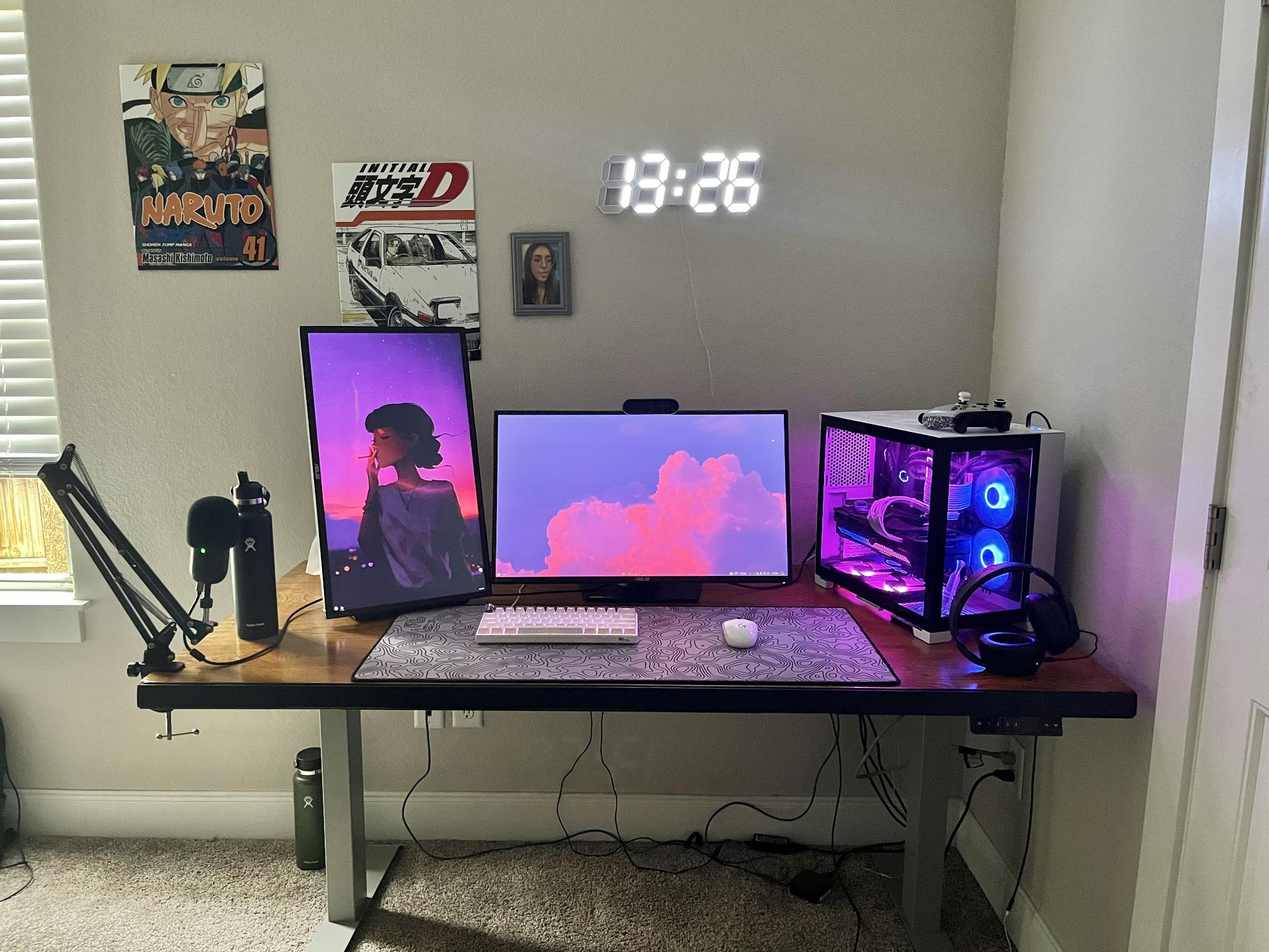keyboard: (466, 597, 652, 656)
monitor: (295, 318, 499, 614), (489, 404, 796, 588)
mouse: (710, 608, 775, 663)
pc: (810, 395, 1043, 642)
